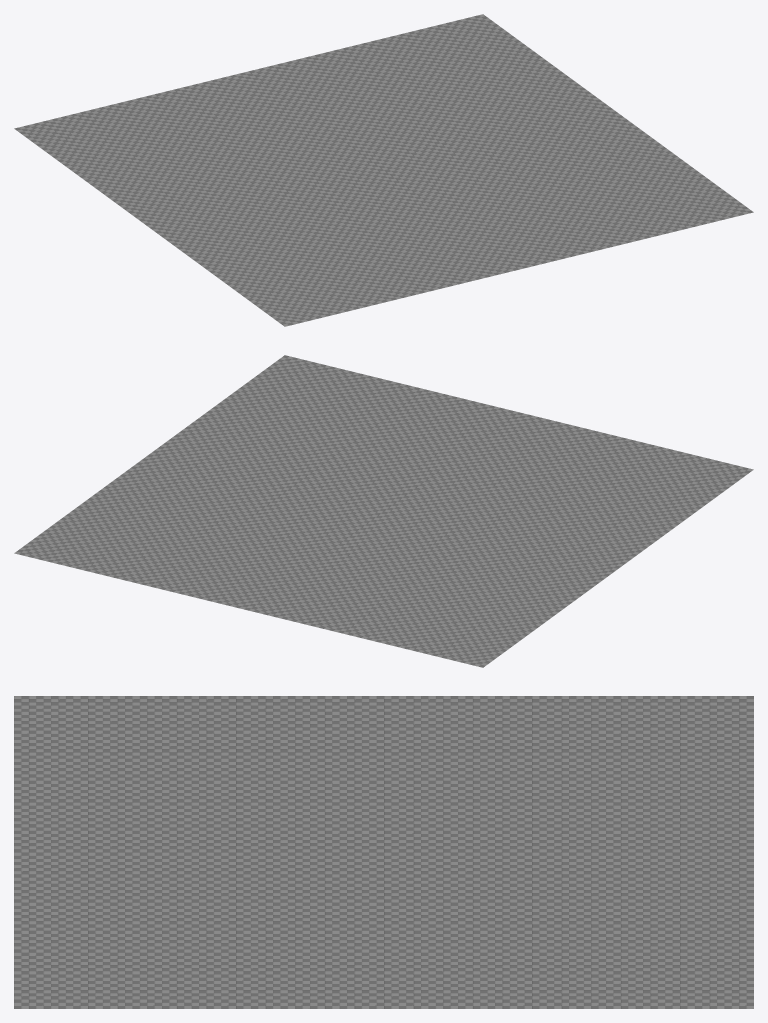
The model's file is floor.obj.
The picture shows the model from 3 angles, top to bottom: view 1: azimuth 30°, elevation 25°; view 2: azimuth 150°, elevation 25°; view 3: azimuth 270°, elevation 25°; orthographic projection. The views are drawn at different scales.
Parts seen in each view (by area): view 1: floor; view 2: floor; view 3: floor.
Part boxes in pixels (left/top/right/bottom): floor: left=14, top=14, right=753, bottom=326; floor: left=14, top=355, right=753, bottom=667; floor: left=14, top=696, right=753, bottom=1008.
Size of the model in its own units: 100 by 0 by 100.
1 material, 1 textured.
